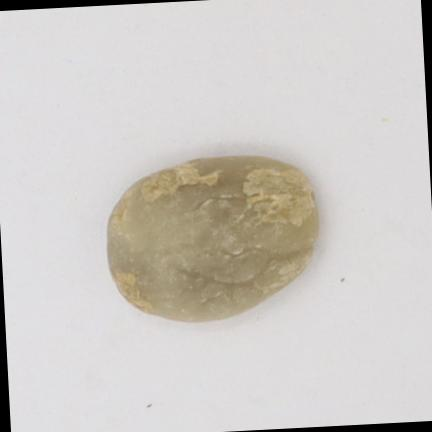husk: (108, 157, 318, 321)
